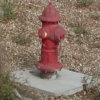Hydrant: (28, 2, 79, 81)
